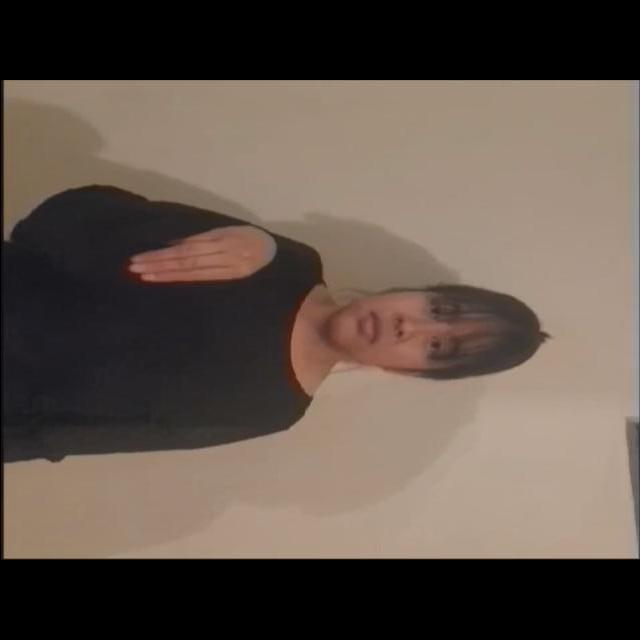M: (102, 214, 284, 296)
